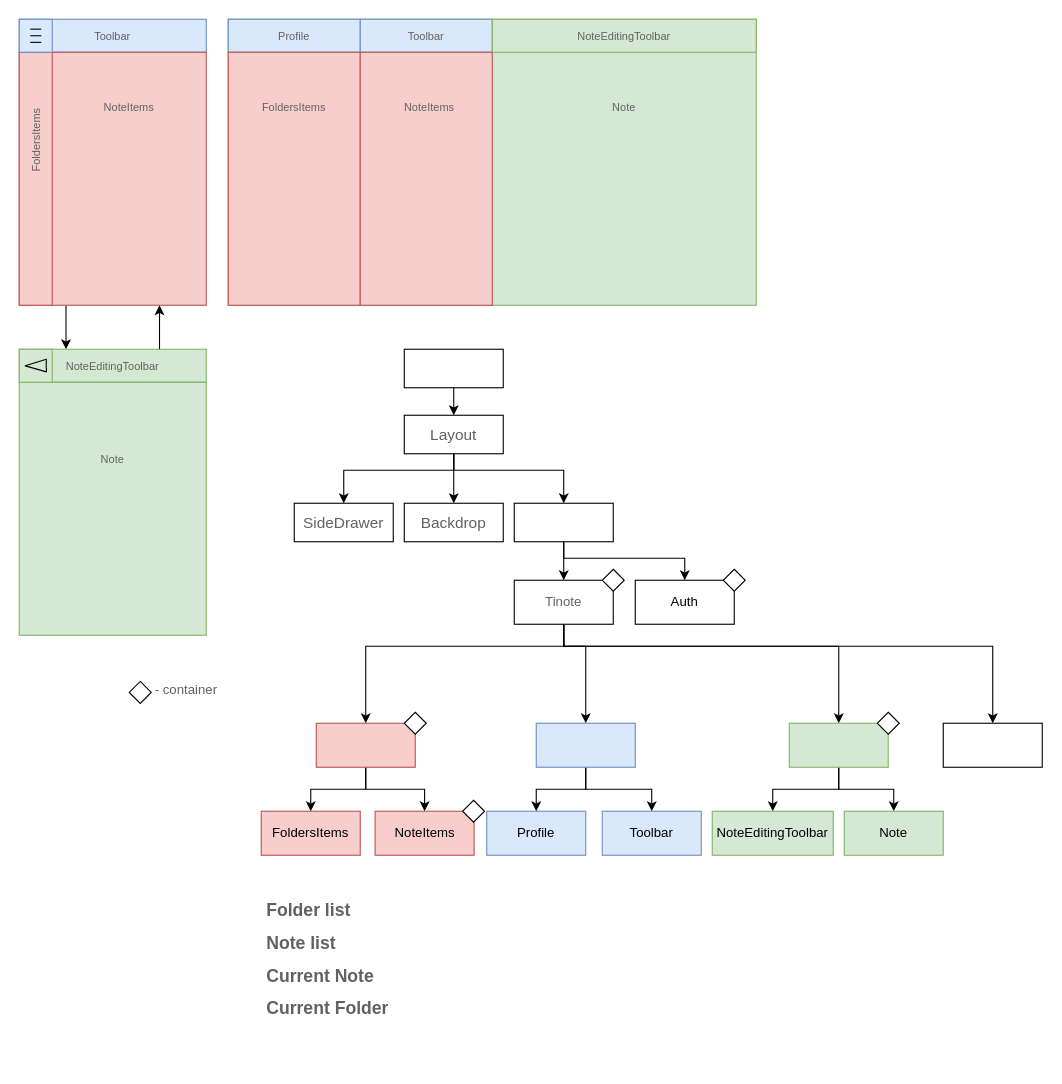
This 1062x1084 diagram has some shape labels left out. Here are the shapes that lost their labels. From the top down, the box of each, then its label:
(403, 348, 503, 388): App
(513, 502, 613, 542): props.children
(315, 722, 415, 767): Explorer
(535, 722, 635, 767): Menu
(788, 722, 888, 767): NoteEditor
(942, 722, 1042, 767): Modal
